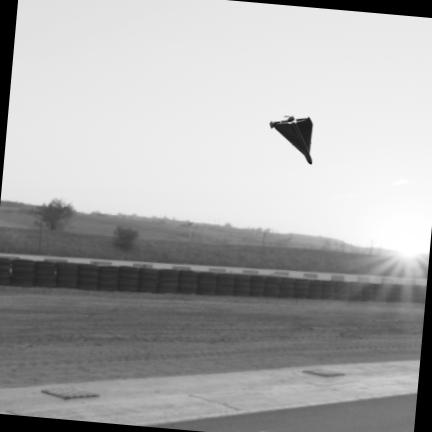Shahed: (271, 117, 313, 163)
